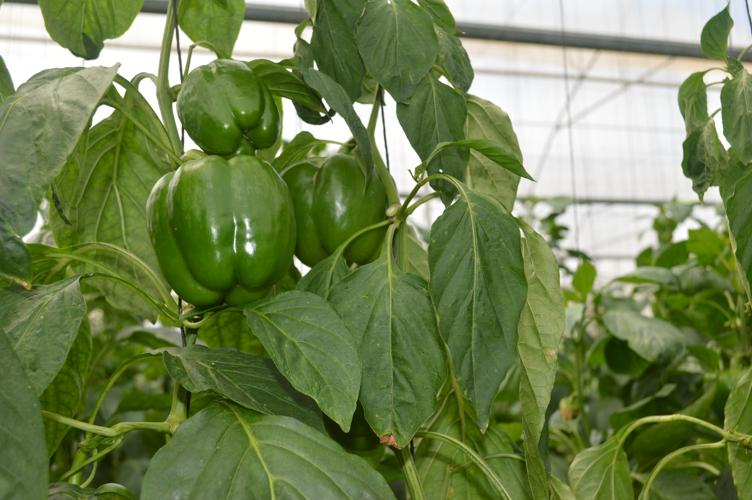BellPepper: (150, 157, 295, 306), (290, 154, 387, 268), (176, 59, 279, 156)
